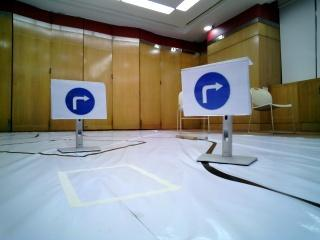right: (184, 67, 250, 116), (50, 81, 107, 118)
